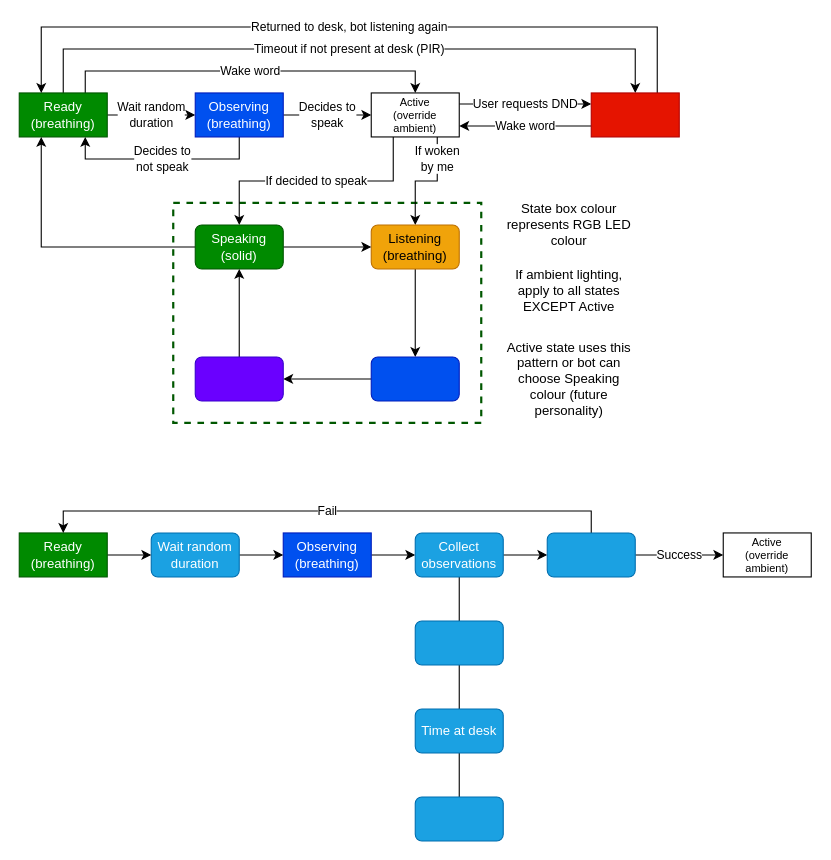
The diagram is 831 pixels wide and 860 high, and some of its shapes have lost their labels. Each missing label, with the box of its shape:
Last interaction: (414, 796, 503, 841)
Learning (pulse): (194, 356, 283, 401)
Random chance to talk: (546, 532, 635, 577)
Silent (breathing): (590, 92, 679, 137)
Thinking (pulse): (370, 356, 459, 401)
Time of day: (414, 620, 503, 665)
